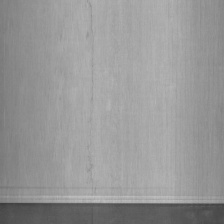welding_line: (0, 188, 224, 211)
